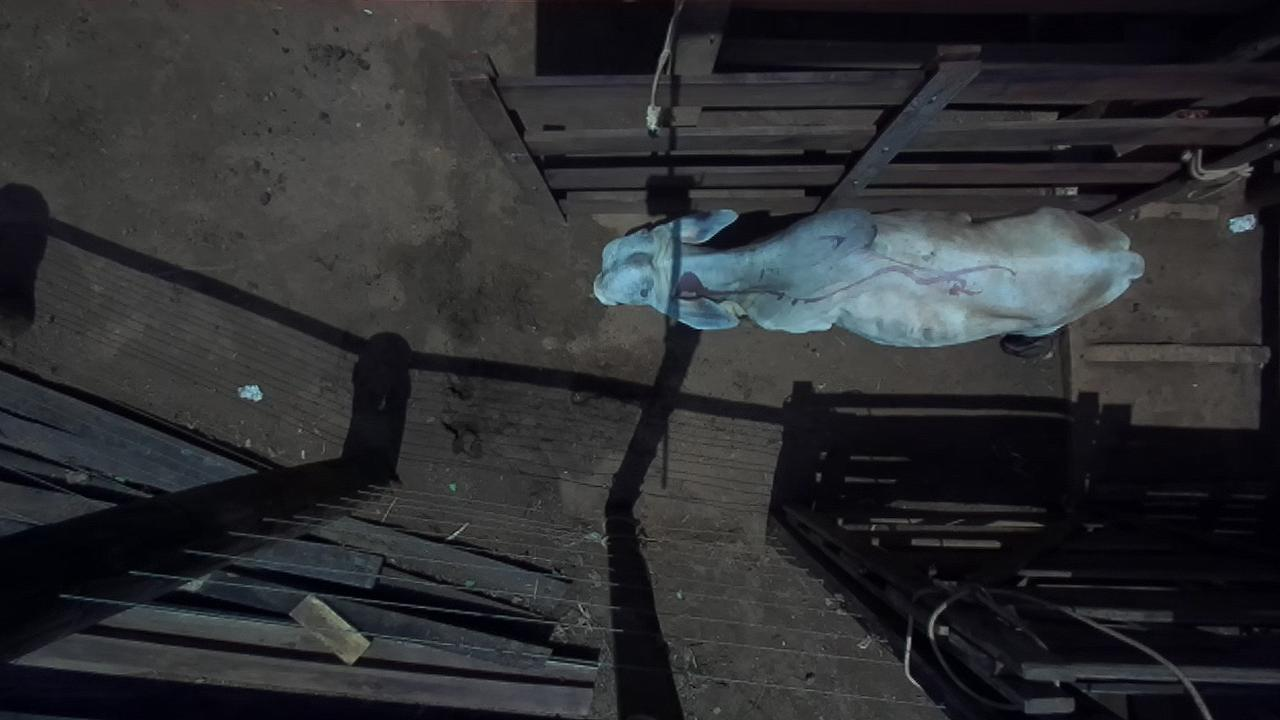cattle: (591, 202, 1145, 350)
